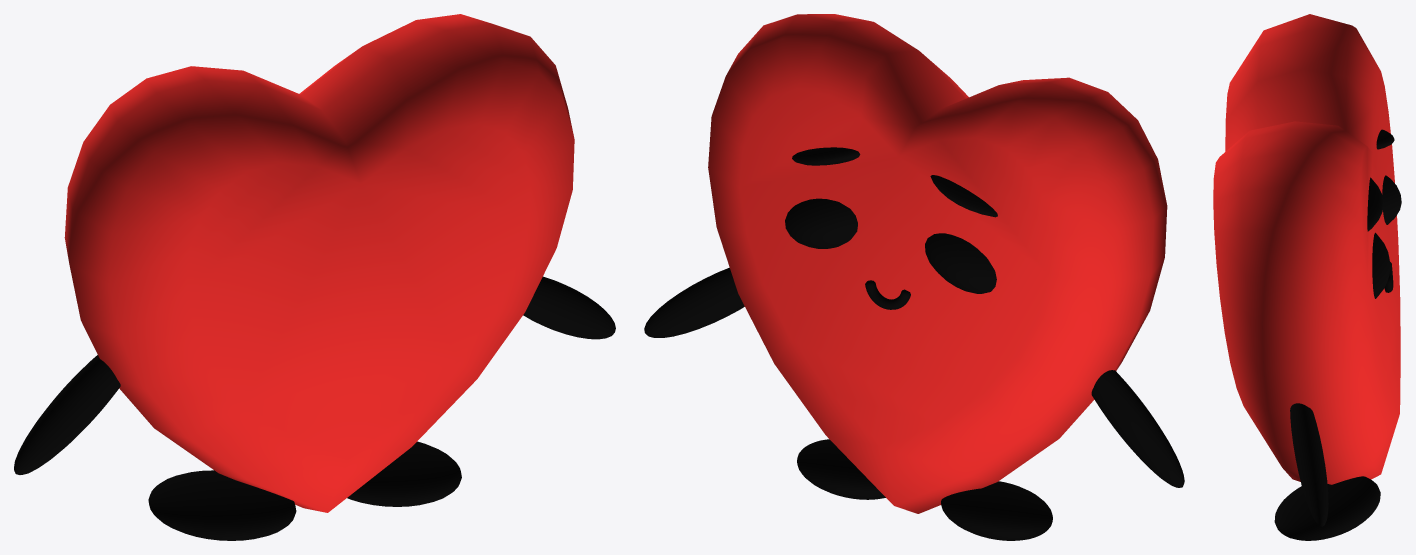
The picture shows the model from 3 angles, left to right: view 1: azimuth 30°, elevation 25°; view 2: azimuth 150°, elevation 25°; view 3: azimuth 270°, elevation 25°; orthographic projection. The views are drawn at different scales.
Visible parts, largest first — view 1: Node1, Node9, Node7, Node10, Node8; view 2: Node1, Node9, Node7, Node8, Node10, Node3, Node2, Node4, Node5, Node6; view 3: Node1, Node10, Node8, Node2, Node3, Node5, Node4.
Boxes of the visible parts, bbox=[...] form: Node1: bbox=[64, 14, 574, 512]; Node9: bbox=[148, 470, 296, 540]; Node7: bbox=[14, 355, 120, 474]; Node10: bbox=[347, 441, 461, 506]; Node8: bbox=[523, 276, 615, 339]; Node1: bbox=[708, 14, 1167, 513]; Node9: bbox=[941, 481, 1052, 540]; Node7: bbox=[1091, 370, 1184, 487]; Node8: bbox=[644, 267, 744, 337]; Node10: bbox=[797, 439, 885, 499]; Node3: bbox=[925, 233, 996, 293]; Node2: bbox=[785, 198, 857, 248]; Node4: bbox=[930, 175, 997, 217]; Node5: bbox=[792, 147, 860, 165]; Node6: bbox=[865, 280, 910, 309]; Node1: bbox=[1213, 14, 1400, 484]; Node10: bbox=[1274, 476, 1380, 540]; Node8: bbox=[1290, 403, 1328, 526]; Node2: bbox=[1372, 232, 1390, 298]; Node3: bbox=[1382, 175, 1401, 224]; Node5: bbox=[1367, 177, 1383, 231]; Node4: bbox=[1376, 129, 1394, 149].
Bounding box in the file's own units: 0.5041 × 0.3874 × 0.16.
